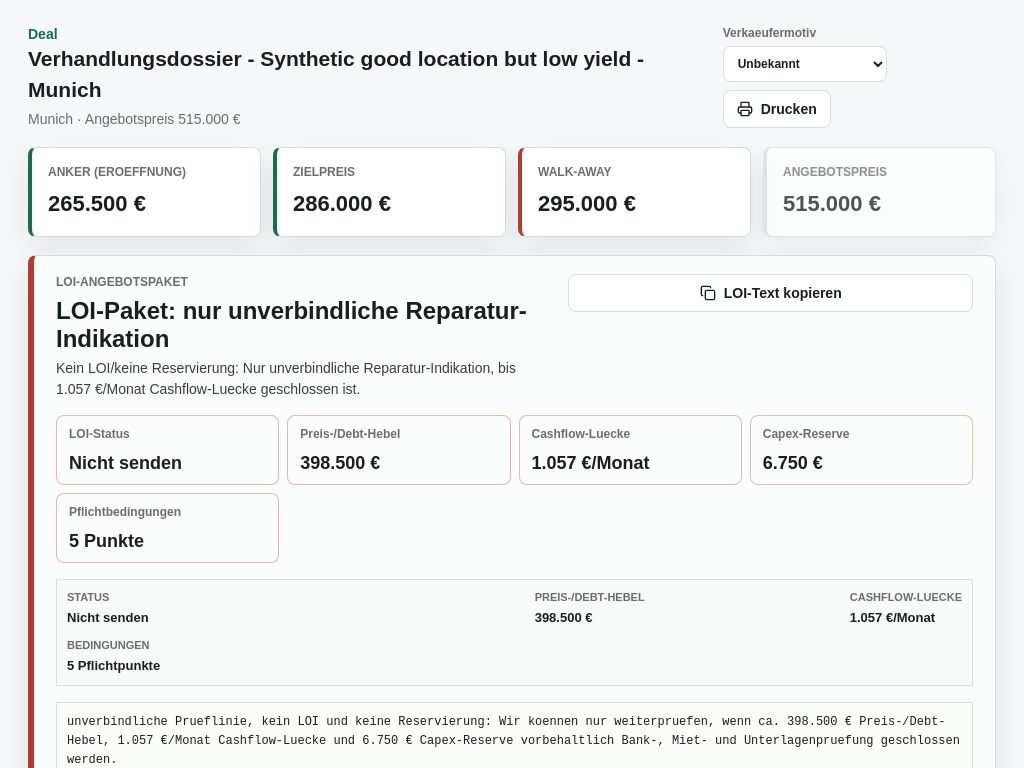
NegotiationView › shows a copy-ready LOI package inside the negotiation dossier
This screenshot has width=1024, height=768.
expect the heading "Verhandlungsdossier -" is shown: met, box [28, 44, 707, 105]
expect the heading "LOI-Paket: nur unverbindliche Reparatur-Indikation" is shown: met, box [56, 297, 550, 352]
Click the button "LOI-Text kopieren" at (771, 293), box [568, 274, 973, 312]
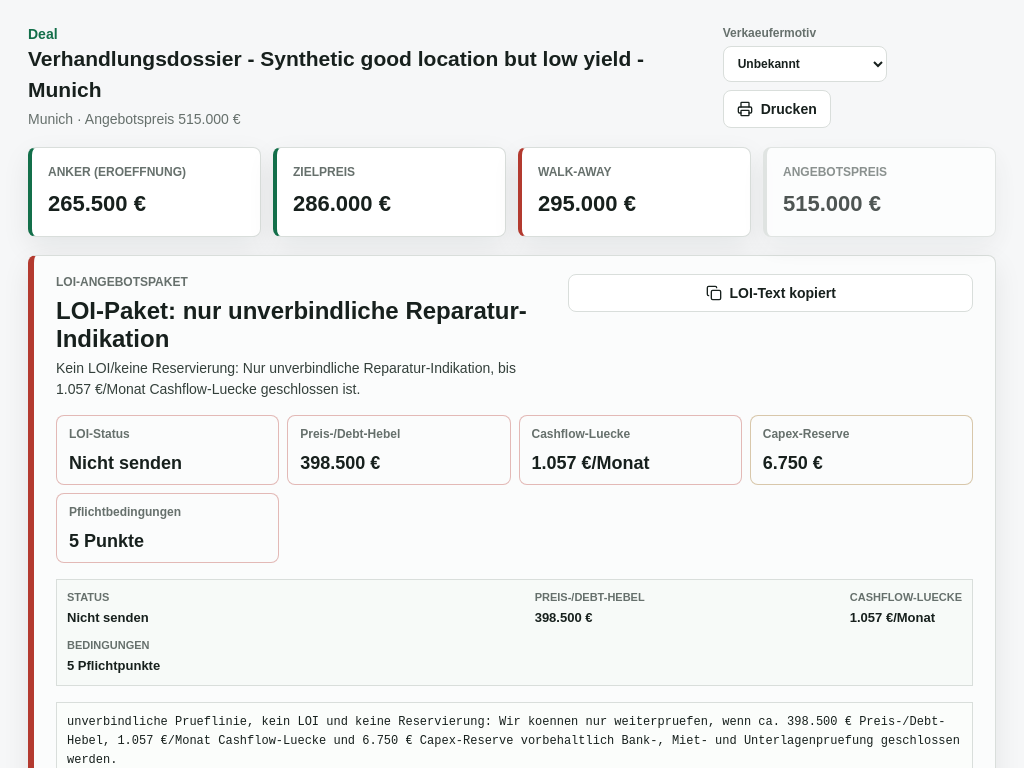
expect the text "kein LOI und keine Reservierung" is shown: met, box [67, 716, 967, 767]
expect the button "LOI-Text kopiert" is shown: met, box [568, 274, 973, 312]
